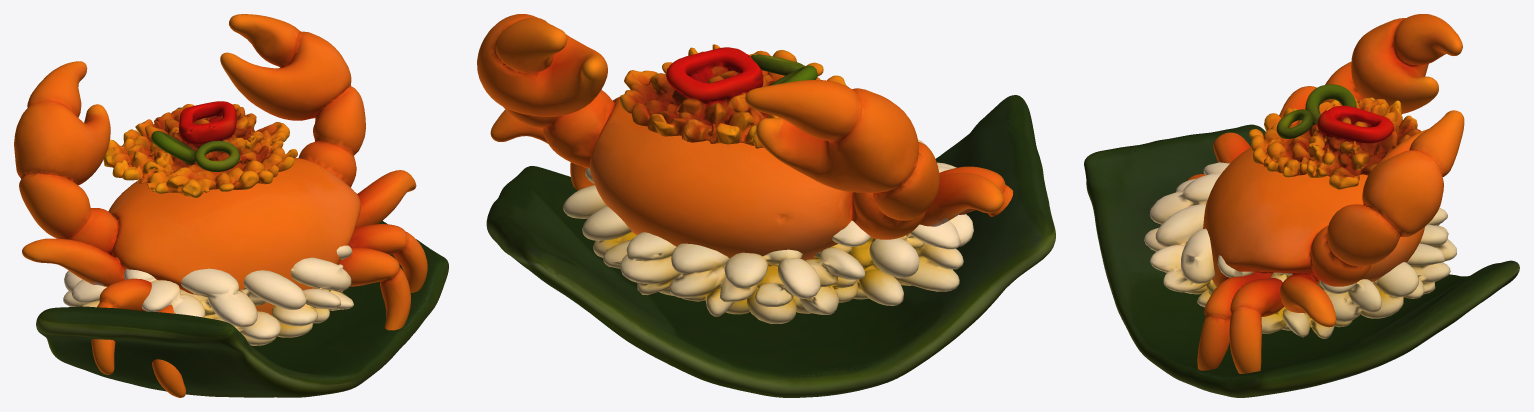
The model's file is roll.glb.
3 views of the same model, side by side, from view 1: azimuth 30°, elevation 25°; view 2: azimuth 150°, elevation 25°; view 3: azimuth 270°, elevation 25° (orthographic). The views are drawn at different scales.
Parts seen in each view (by area): view 1: crab_mesh, nori_mesh, top_mesh, rice_mesh; view 2: crab_mesh, nori_mesh, rice_mesh, top_mesh; view 3: crab_mesh, nori_mesh, rice_mesh, top_mesh.
Part boxes in pixels (x1=…): crab_mesh: x1=14, y1=14, x2=427, y2=397; nori_mesh: x1=36, y1=220, x2=448, y2=397; top_mesh: x1=103, y1=101, x2=297, y2=197; rice_mesh: x1=63, y1=245, x2=353, y2=345; crab_mesh: x1=477, y1=14, x2=1013, y2=264; nori_mesh: x1=486, y1=95, x2=1055, y2=397; rice_mesh: x1=563, y1=139, x2=973, y2=323; top_mesh: x1=620, y1=44, x2=847, y2=148; crab_mesh: x1=1187, y1=14, x2=1464, y2=373; nori_mesh: x1=1084, y1=124, x2=1519, y2=397; rice_mesh: x1=1144, y1=162, x2=1456, y2=338; top_mesh: x1=1249, y1=84, x2=1421, y2=189.
Size of the model in its own units: 1.2 by 0.7633 by 1.06.
4 materials, 4 textured.
